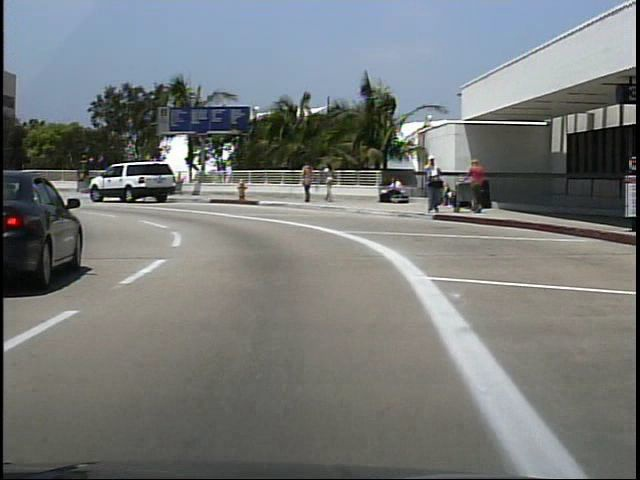person: (420, 153, 444, 219), (468, 156, 489, 214), (322, 159, 339, 206), (301, 160, 316, 206), (379, 176, 401, 205)
